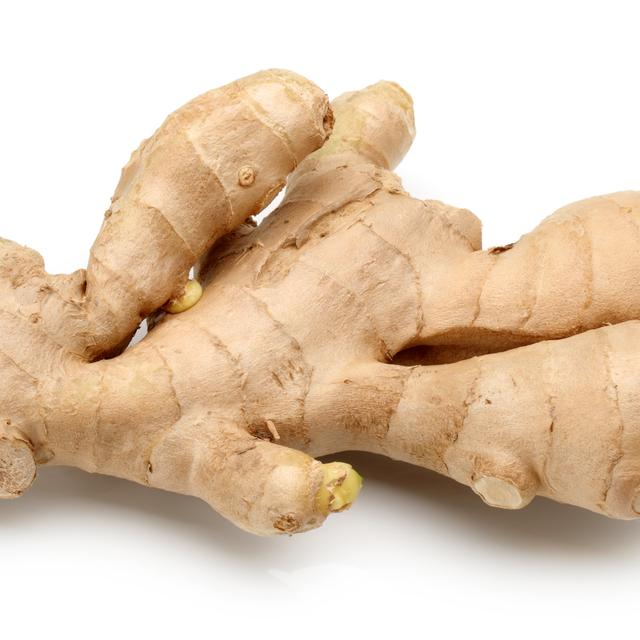ginger: (0, 72, 640, 533)
